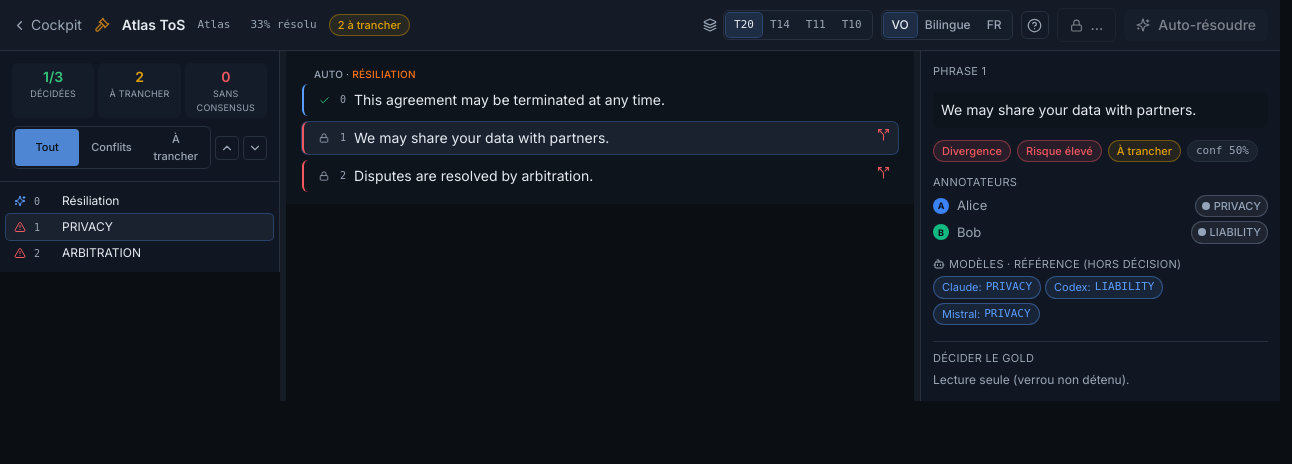
Scenario: GoldWorkspace › le filtre « conflits » restreint la liste du plan
The width and height of the screenshot is (1292, 464).
Expected: the element with test id "gold-outline" is shown, top-left (0, 51), bottom-right (279, 272)
Click the tab with test id "gold-filter-conflicts".
click(111, 148)  # box top-left (79, 129), bottom-right (144, 166)
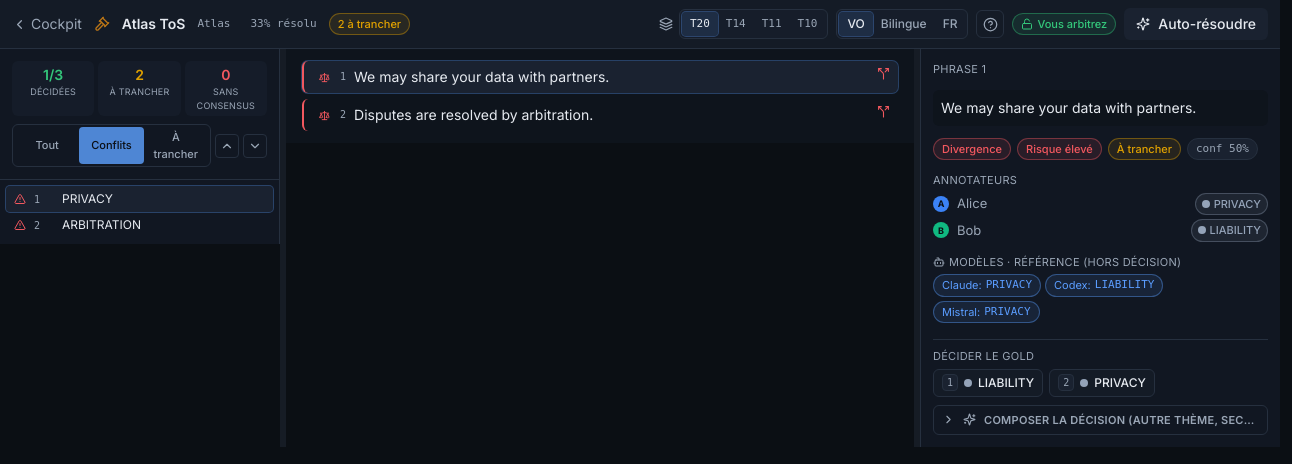
Expected: the button with test id "gold-outline-1" is shown, top-left (6, 186), bottom-right (273, 212)
Result: the button with test id "gold-outline-0" is gone
